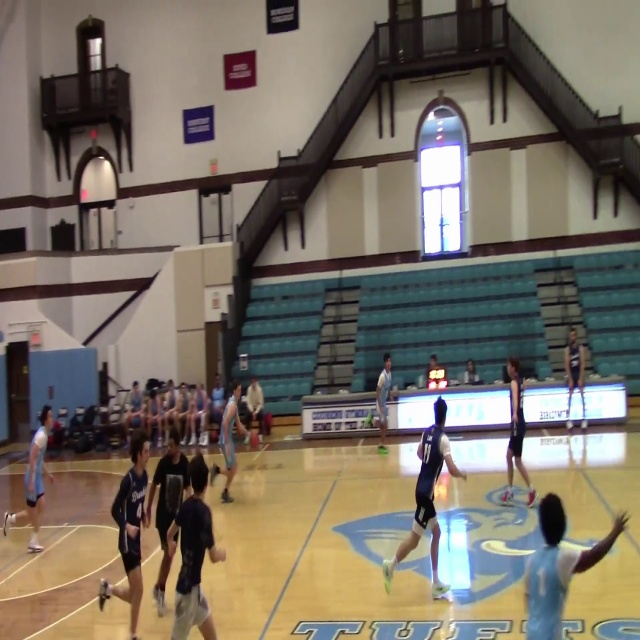Basketball: (249, 430, 260, 449), (377, 445, 388, 454)
